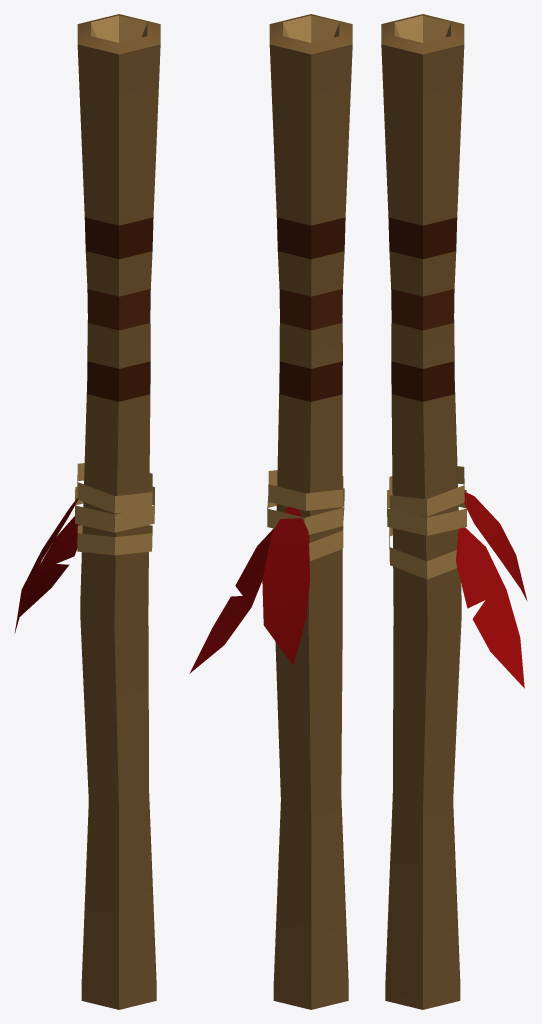
Rendered from Goblin_Blowing_pipe.fbx.
3 renders of one model, left to right at view 1: azimuth 90°, elevation 25°; view 2: azimuth 150°, elevation 25°; view 3: azimuth 270°, elevation 25°, orthographic.
Parts seen in each view (by area): view 1: throwing_pipe001; view 2: throwing_pipe001; view 3: throwing_pipe001.
Boxes of the visible parts, bbox=[...] form: throwing_pipe001: bbox=[14, 14, 160, 1009]; throwing_pipe001: bbox=[189, 14, 352, 1009]; throwing_pipe001: bbox=[381, 14, 527, 1009].
Size of the model in its own units: 10.68 by 88.29 by 12.02.
